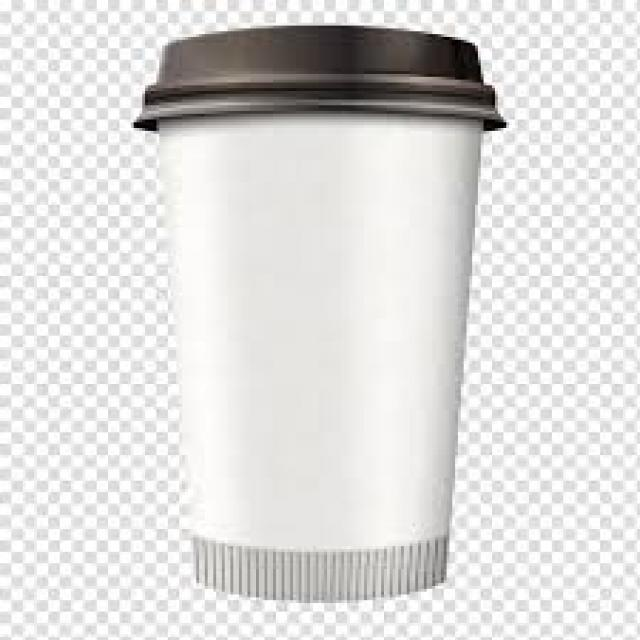Plastic: (130, 24, 516, 603)
